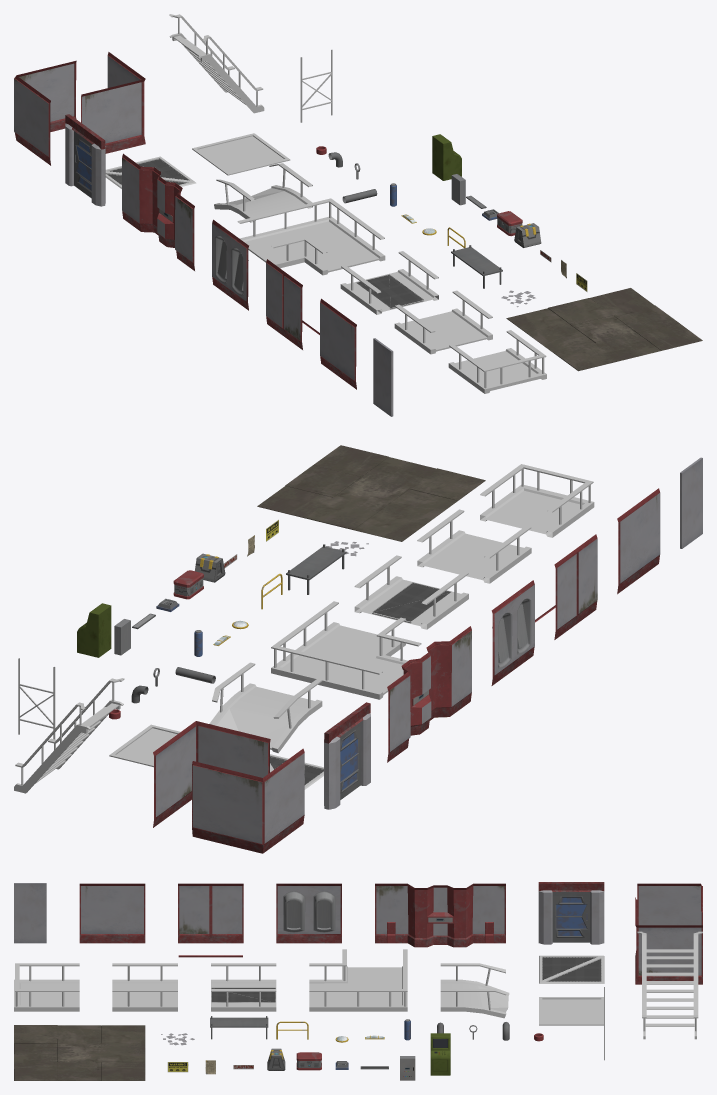
File: fabrica.fbx
3 renders of one model, top to bottom at view 1: azimuth 30°, elevation 25°; view 2: azimuth 150°, elevation 25°; view 3: azimuth 270°, elevation 25°, orthographic. The views are drawn at different scales.
Visible parts, largest first — view 1: Factory_Modules:Concrete_Ground, Factory_Modules:Catwalk_Corner, Factory_Modules:Wall_Type4, Factory_Modules:WallCorner_Inward, Factory_Modules:WallCorner_Outward, Factory_Modules:Catwalk_End, Factory_Modules:Catwalk, Factory_Modules:Catwalk_Grated, Factory_Modules:Wall_Type3, Factory_Modules:Wall_Type2, Factory_Modules:Wall_Type1, Factory_Modules:Rusted_Panel (+8 smaller); view 2: Factory_Modules:Concrete_Ground, Factory_Modules:WallCorner_Inward, Factory_Modules:Catwalk_Corner, Factory_Modules:Wall_Type4, Factory_Modules:WallCorner_Outward, Factory_Modules:Catwalk_Broken, Factory_Modules:Catwalk_End, Factory_Modules:Catwalk, Factory_Modules:Catwalk_Grated, Factory_Modules:Wall_Type2, Factory_Modules:Wall_Type1, Factory_Modules:Wall_Type3 (+10 smaller); view 3: Factory_Modules:Wall_Type4, Factory_Modules:Concrete_Ground, Factory_Modules:Catwalk_Corner, Factory_Modules:Wall_Type1, Factory_Modules:Wall_Type2, Factory_Modules:Wall_Type3, Factory_Modules:WallCorner_Outward, Factory_Modules:Stairs, Factory_Modules:WallCorner_Inward, Factory_Modules:Catwalk_End, Factory_Modules:Catwalk, Factory_Modules:Catwalk_Grated (+11 smaller).
Boxes of the visible parts, left/top/right/bottom form: Factory_Modules:Concrete_Ground: left=506, top=288, right=702, bottom=371; Factory_Modules:Catwalk_Corner: left=237, top=198, right=385, bottom=275; Factory_Modules:Wall_Type4: left=122, top=153, right=194, bottom=270; Factory_Modules:WallCorner_Inward: left=14, top=60, right=76, bottom=165; Factory_Modules:WallCorner_Outward: left=81, top=52, right=145, bottom=153; Factory_Modules:Catwalk_End: left=448, top=330, right=546, bottom=393; Factory_Modules:Catwalk: left=394, top=290, right=492, bottom=354; Factory_Modules:Catwalk_Grated: left=340, top=251, right=438, bottom=314; Factory_Modules:Wall_Type3: left=212, top=219, right=248, bottom=310; Factory_Modules:Wall_Type2: left=266, top=259, right=302, bottom=349; Factory_Modules:Wall_Type1: left=320, top=298, right=356, bottom=389; Factory_Modules:Rusted_Panel: left=192, top=133, right=290, bottom=175; Factory_Modules:Concrete_Ground: left=257, top=445, right=485, bottom=541; Factory_Modules:WallCorner_Inward: left=192, top=748, right=304, bottom=853; Factory_Modules:Catwalk_Corner: left=271, top=601, right=421, bottom=699; Factory_Modules:Wall_Type4: left=387, top=626, right=471, bottom=762; Factory_Modules:WallCorner_Outward: left=153, top=721, right=270, bottom=827; Factory_Modules:Catwalk_Broken: left=209, top=662, right=322, bottom=753; Factory_Modules:Catwalk_End: left=480, top=464, right=594, bottom=537; Factory_Modules:Catwalk: left=417, top=509, right=531, bottom=583; Factory_Modules:Catwalk_Grated: left=354, top=555, right=468, bottom=629; Factory_Modules:Wall_Type2: left=554, top=534, right=597, bottom=639; Factory_Modules:Wall_Type1: left=617, top=488, right=660, bottom=594; Factory_Modules:Wall_Type3: left=491, top=580, right=534, bottom=685; Factory_Modules:Wall_Type4: left=375, top=883, right=505, bottom=947; Factory_Modules:Concrete_Ground: left=14, top=1025, right=145, bottom=1080; Factory_Modules:Catwalk_Corner: left=309, top=949, right=407, bottom=1011; Factory_Modules:Wall_Type1: left=79, top=883, right=145, bottom=943; Factory_Modules:Wall_Type2: left=178, top=883, right=243, bottom=943; Factory_Modules:Wall_Type3: left=276, top=883, right=341, bottom=943; Factory_Modules:WallCorner_Outward: left=635, top=897, right=702, bottom=984; Factory_Modules:Stairs: left=637, top=931, right=702, bottom=1039; Factory_Modules:WallCorner_Inward: left=637, top=883, right=702, bottom=925; Factory_Modules:Catwalk_End: left=14, top=963, right=79, bottom=1011; Factory_Modules:Catwalk: left=112, top=963, right=177, bottom=1011; Factory_Modules:Catwalk_Grated: left=211, top=963, right=276, bottom=1011.
Bounding box in the file's own units: 17.78 × 5.45 × 36.75.
